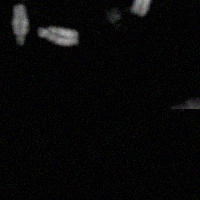chromosome: (36, 26, 79, 46), (131, 0, 178, 14), (14, 3, 28, 46)
